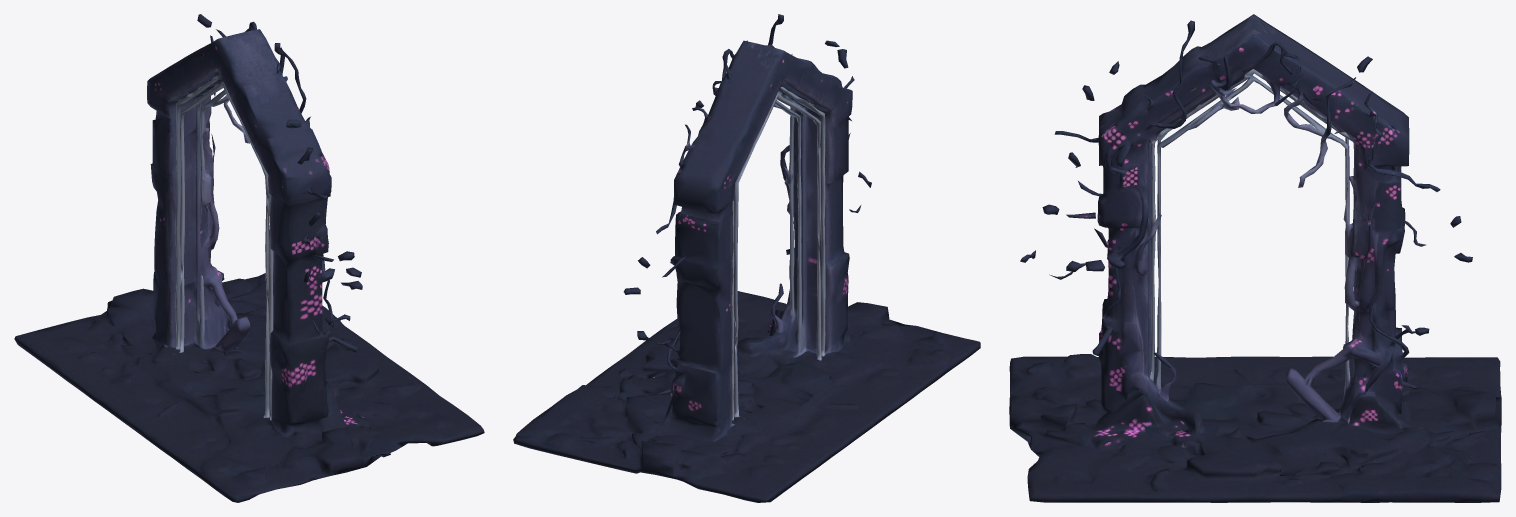
Rendered from undeadPortal.fbx.
The picture shows the model from 3 angles, left to right: view 1: azimuth 30°, elevation 25°; view 2: azimuth 150°, elevation 25°; view 3: azimuth 270°, elevation 25°; orthographic projection. The views are drawn at different scales.
Visible parts, largest first — view 1: tripo_node_c5bda06c; view 2: tripo_node_c5bda06c; view 3: tripo_node_c5bda06c.
Part boxes in pixels (<box>): tripo_node_c5bda06c: <box>14,14,484,502</box>; tripo_node_c5bda06c: <box>513,14,980,502</box>; tripo_node_c5bda06c: <box>1009,14,1501,502</box>.
Size of the model in its own units: 0.6758 by 0.9187 by 0.9994.
Materials: 1 (1 with a texture image).
